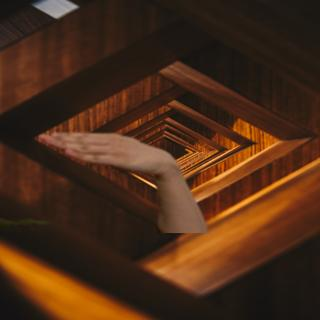WAIT: (32, 126, 174, 177)
